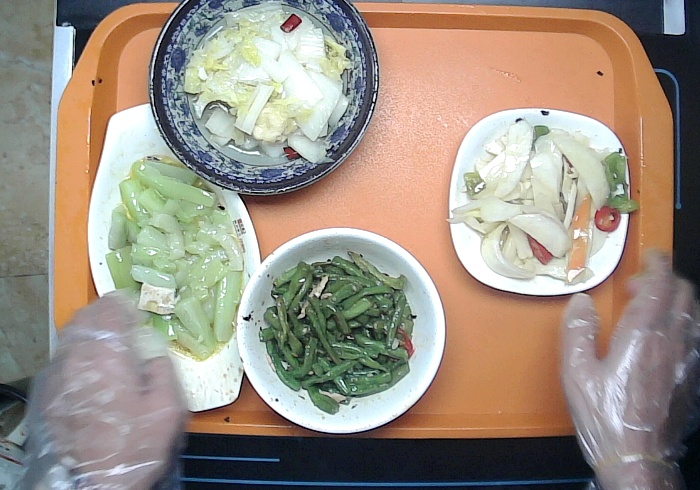ZNLD-Qing_Hua_Wan: (140, 1, 389, 201)
ZNLD-Si_Fang_Wan: (438, 103, 642, 305)
ZNLD-Tang_Wan: (232, 221, 455, 448)
ZNLD-Yu_Pan: (82, 94, 273, 418)
